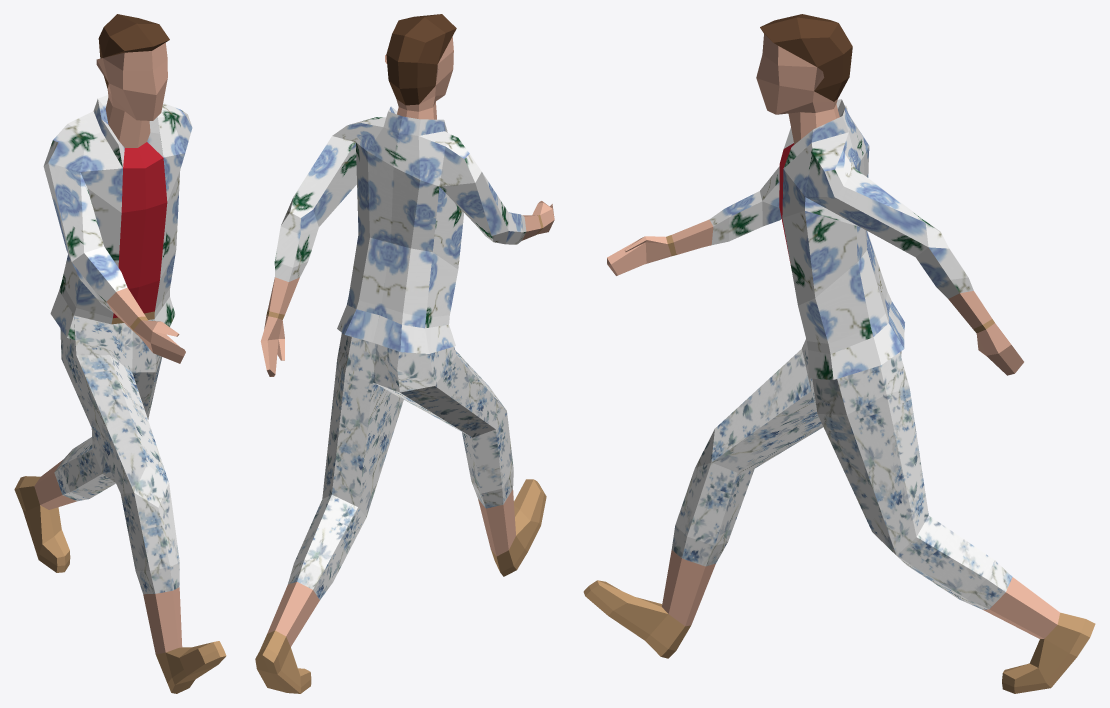
File: SpringManC.004.glb
The picture shows the model from 3 angles, left to right: view 1: azimuth 30°, elevation 25°; view 2: azimuth 150°, elevation 25°; view 3: azimuth 270°, elevation 25°; orthographic projection. The views are drawn at different scales.
Visible parts, largest first — view 1: SpringManC.004; view 2: SpringManC.004; view 3: SpringManC.004.
Boxes of the visible parts, <box> form: SpringManC.004: <box>14,14,226,693</box>; SpringManC.004: <box>255,14,554,693</box>; SpringManC.004: <box>583,14,1095,693</box>.
Size of the model in its own units: 0.4259 by 1.62 by 1.14.
Materials: 1 (1 with a texture image).
